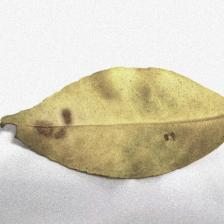canker: (1, 100, 179, 157)
